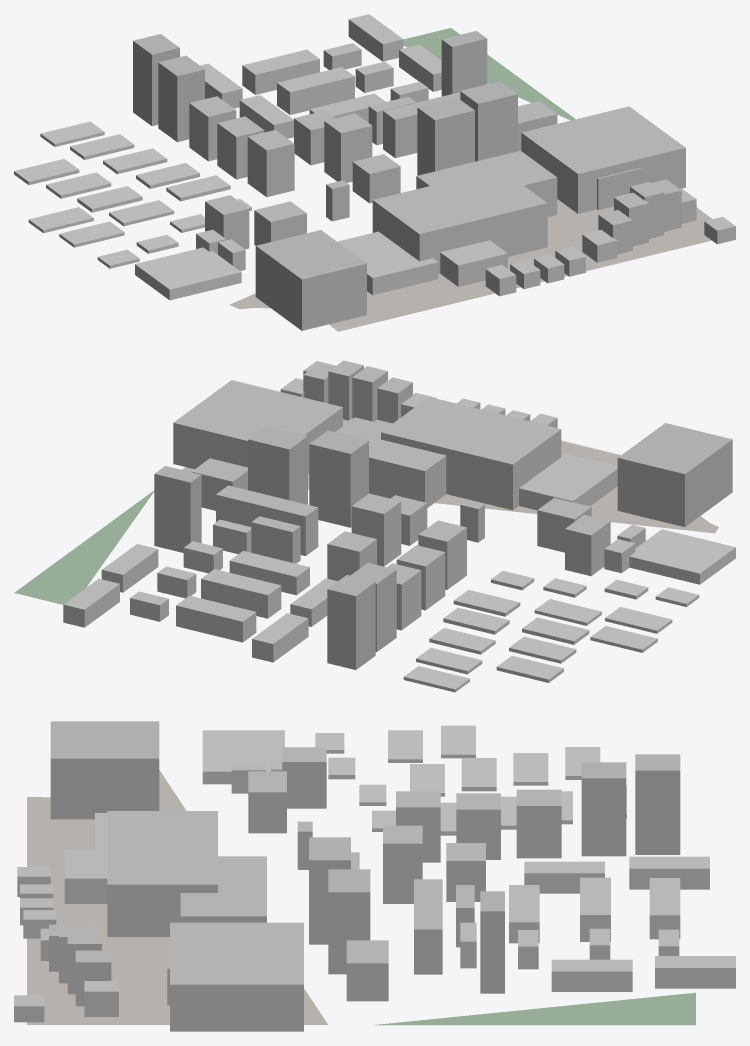
The model's file is 114_80_mid.glb.
3 views of the same model, one above another, from view 1: azimuth 30°, elevation 25°; view 2: azimuth 150°, elevation 25°; view 3: azimuth 270°, elevation 25° (orthographic). The views are drawn at different scales.
Bounding box in the file's own units: 537 × 70.13 × 540.
